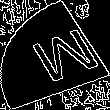M_SE: (14, 22, 96, 88)
